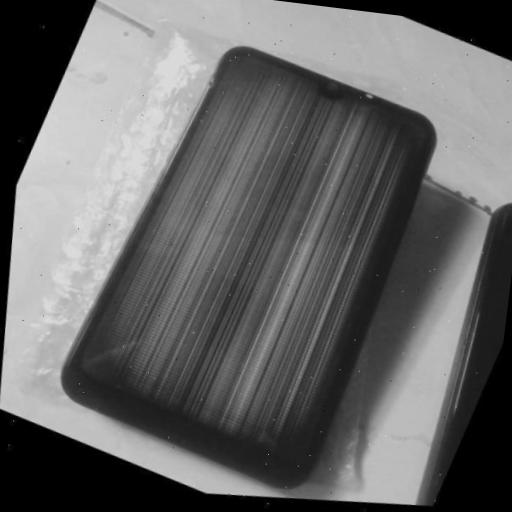phone: (60, 49, 443, 493)
